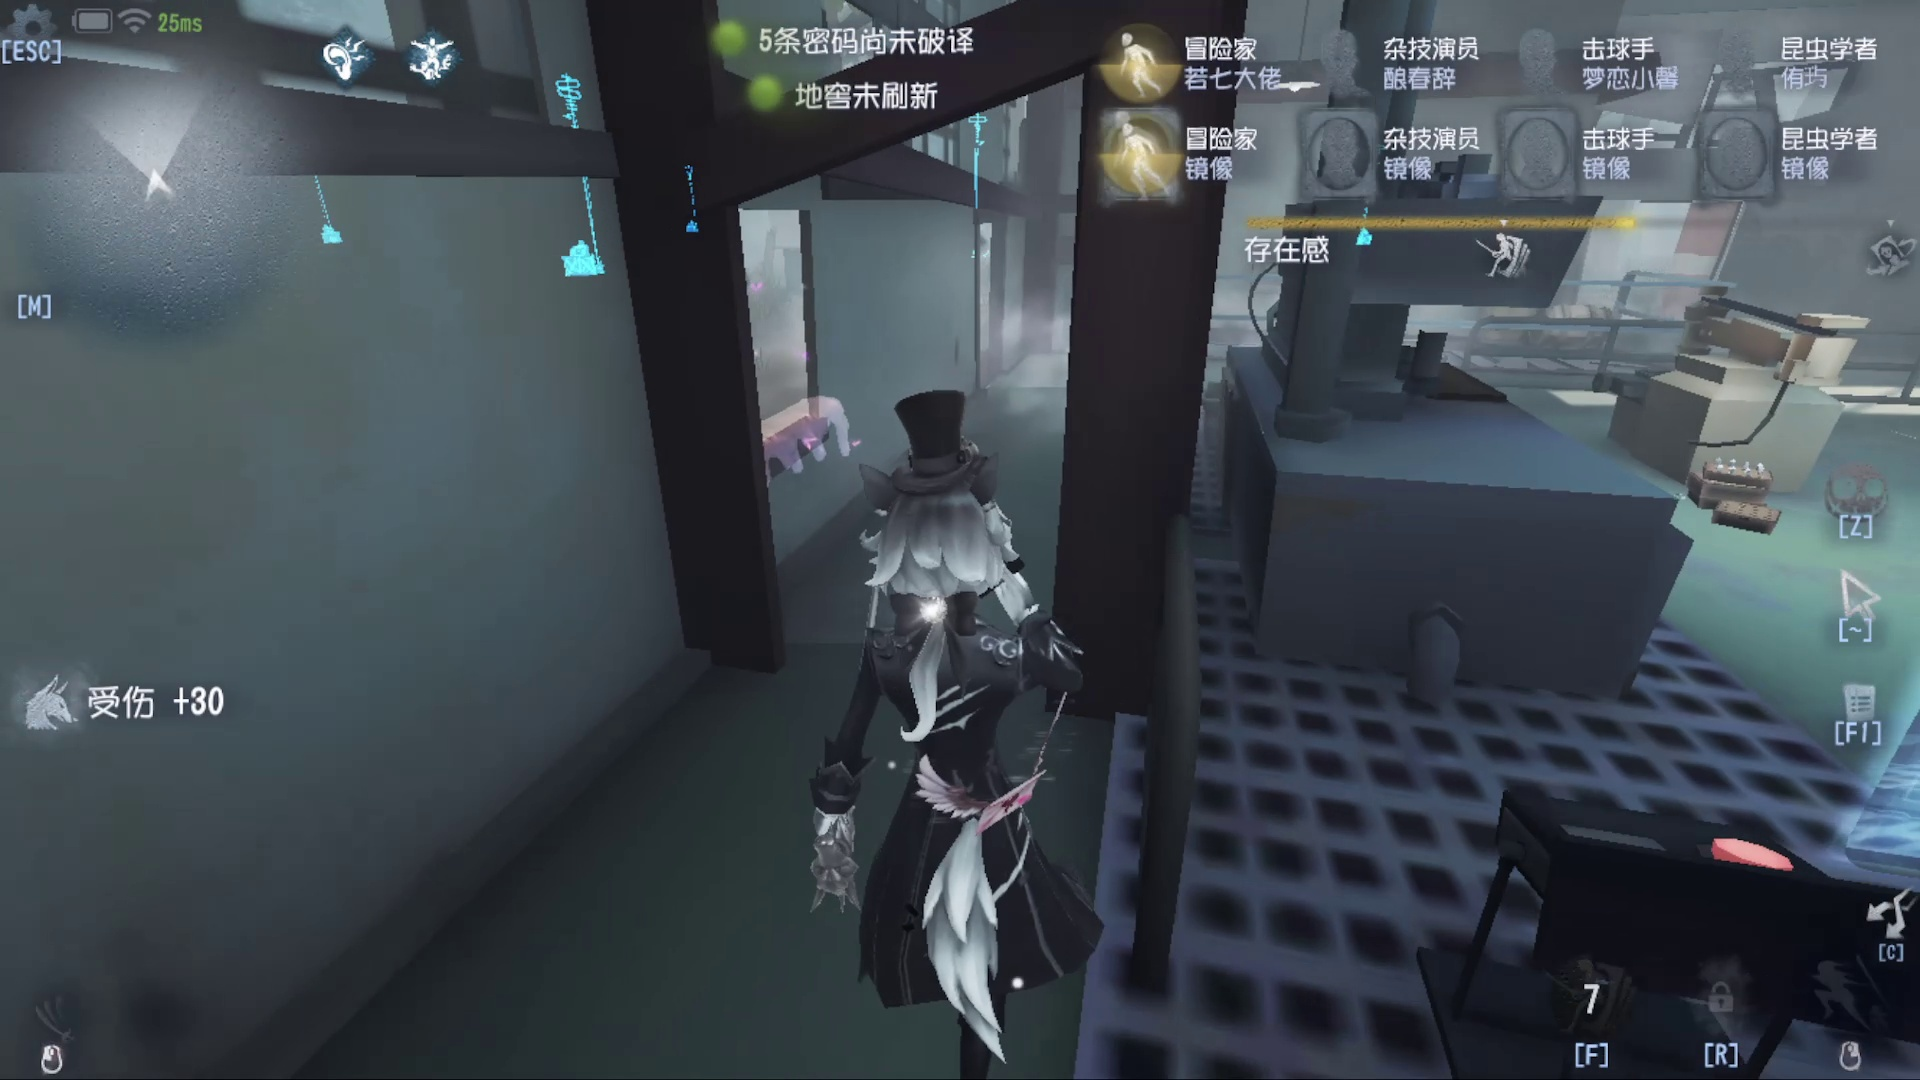密码机: (516, 73, 640, 309), (927, 111, 1015, 237), (293, 152, 382, 248)
